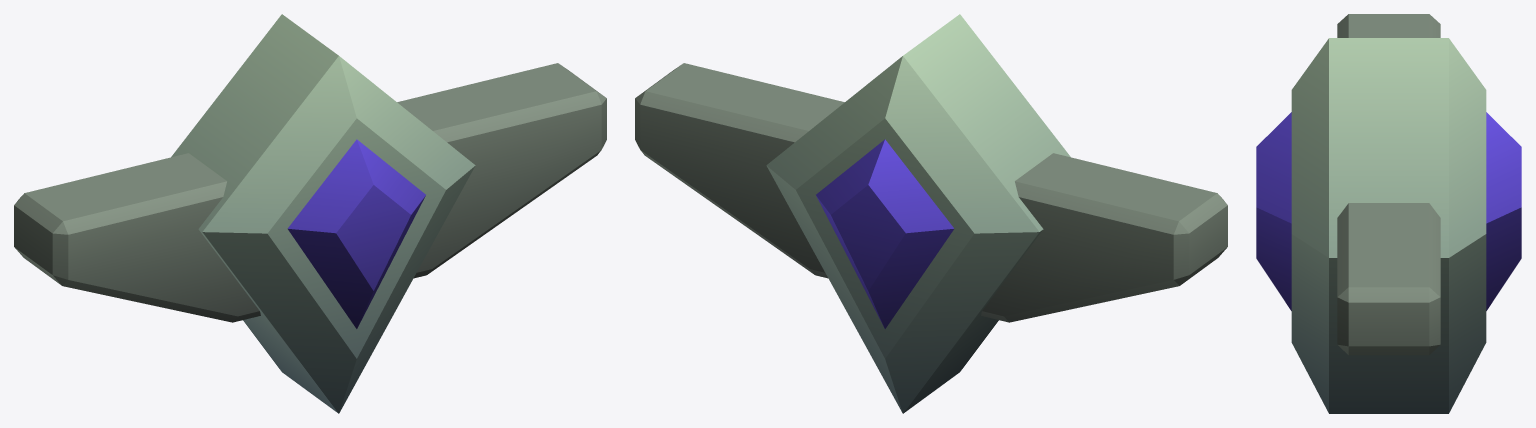
The model's file is decor_002.fbx.
3 views of the same model, side by side, from view 1: azimuth 30°, elevation 25°; view 2: azimuth 150°, elevation 25°; view 3: azimuth 270°, elevation 25° (orthographic). The views are drawn at different scales.
Parts seen in each view (by area): view 1: decor.002; view 2: decor.002; view 3: decor.002.
Boxes of the visible parts, box(x1,y1,x2,y2) form: decor.002: box(14, 14, 606, 413); decor.002: box(635, 14, 1227, 413); decor.002: box(1256, 14, 1521, 413).
Size of the model in its own units: 32.31 by 19.96 by 12.76.
